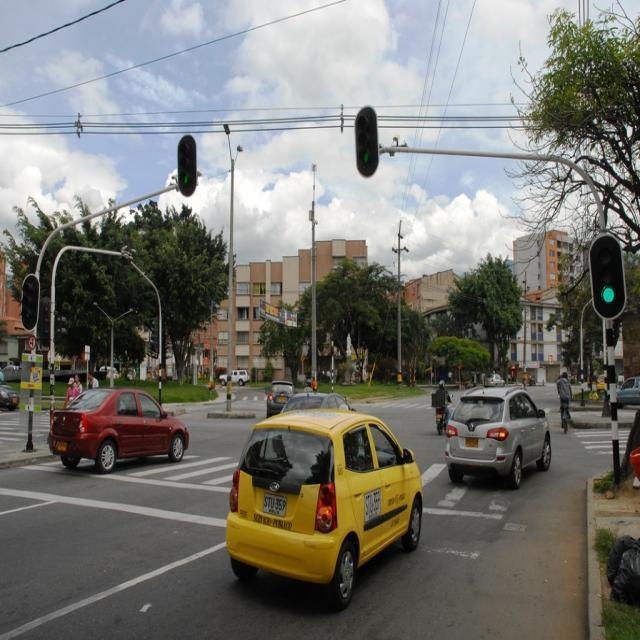traffic light: (591, 235, 626, 312), (354, 108, 378, 172), (177, 137, 197, 193)
